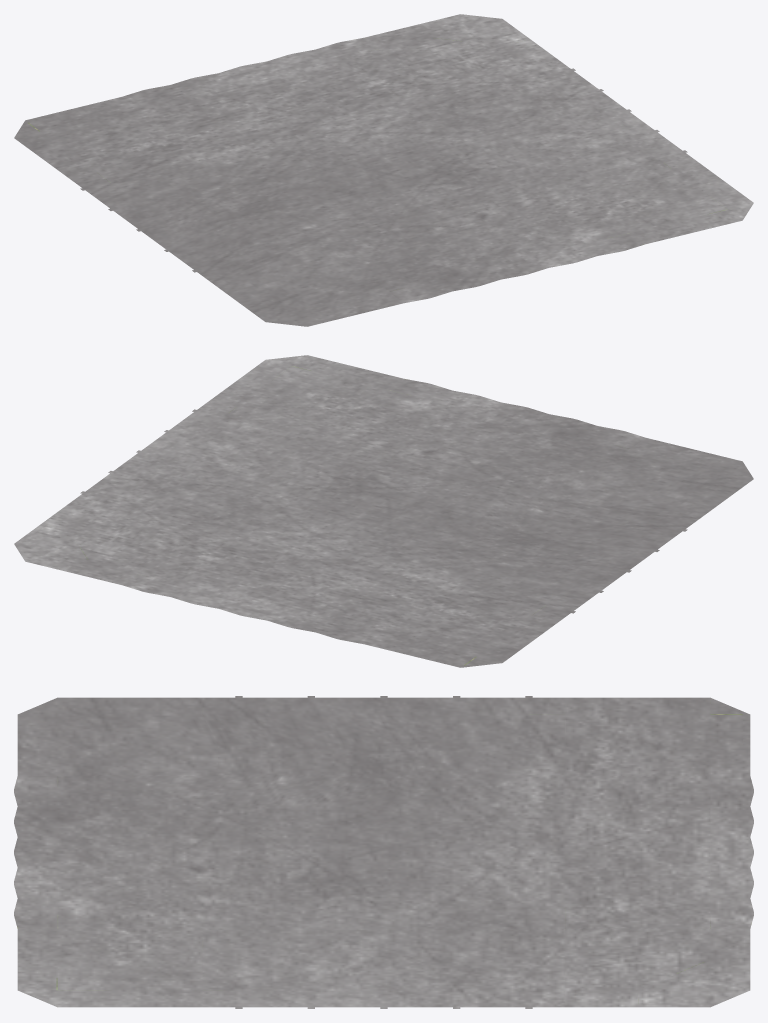
The model's file is map50Field1_Mini_Moon.fbx.
The picture shows the model from 3 angles, top to bottom: view 1: azimuth 30°, elevation 25°; view 2: azimuth 150°, elevation 25°; view 3: azimuth 270°, elevation 25°; orthographic projection. The views are drawn at different scales.
Parts seen in each view (by area): view 1: map50F_Layer1; view 2: map50F_Layer1; view 3: map50F_Layer1.
Boxes of the visible parts, left/top/right/bottom form: map50F_Layer1: left=14, top=14, right=753, bottom=326; map50F_Layer1: left=14, top=355, right=753, bottom=667; map50F_Layer1: left=14, top=696, right=753, bottom=1008.
Size of the model in its own units: 102 by 8.23e-06 by 102.
